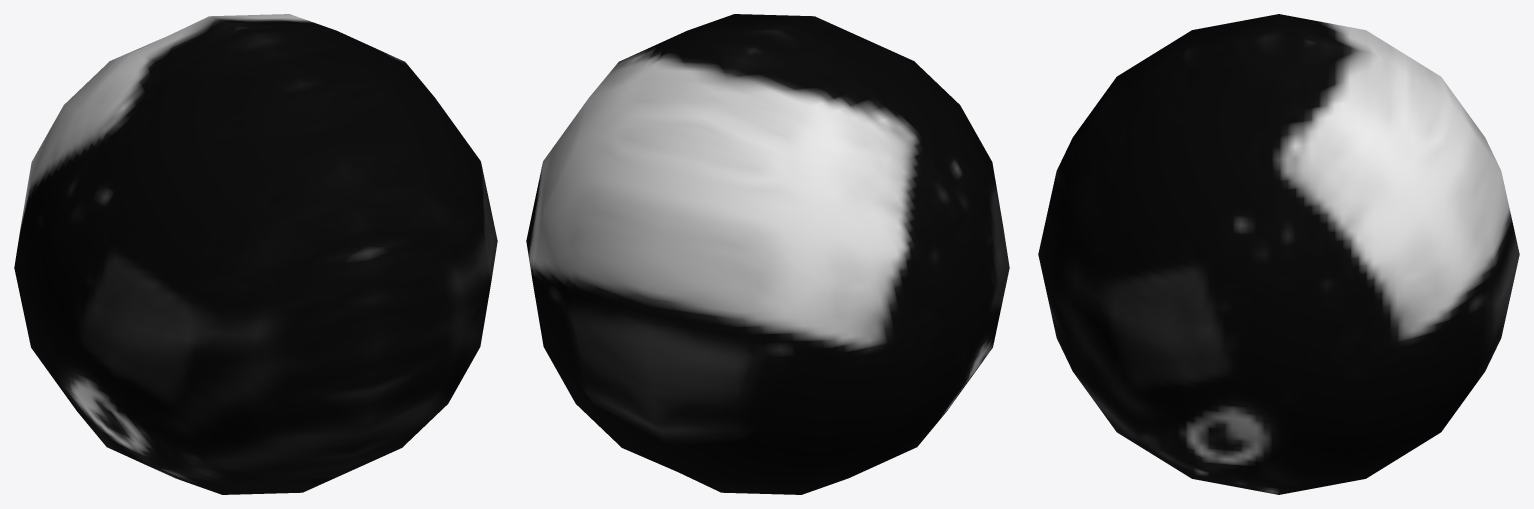
Rendered from 4-Bubble.fbx.
The picture shows the model from 3 angles, left to right: view 1: azimuth 30°, elevation 25°; view 2: azimuth 150°, elevation 25°; view 3: azimuth 270°, elevation 25°; orthographic projection.
Visible parts, largest first — view 1: 4-Bubble; view 2: 4-Bubble; view 3: 4-Bubble.
Boxes of the visible parts, <box> form: 4-Bubble: <box>14,14,497,494</box>; 4-Bubble: <box>526,14,1009,494</box>; 4-Bubble: <box>1038,14,1519,494</box>.
Bounding box in the file's own units: 0.1364 × 0.1364 × 0.1364.
